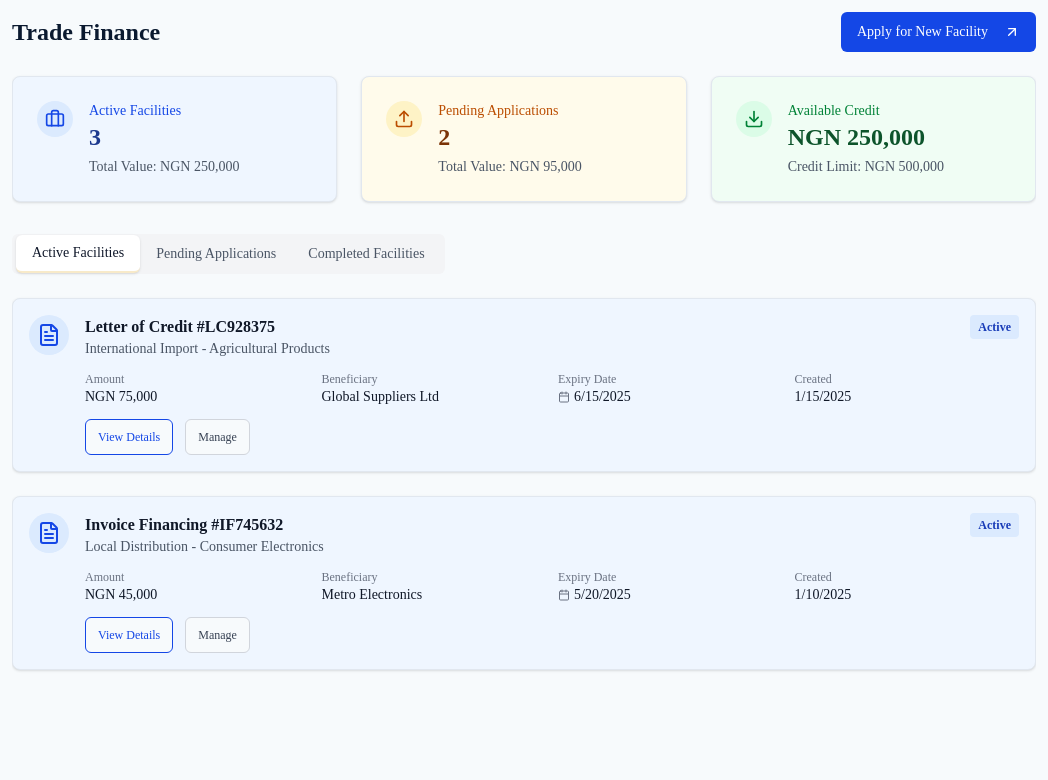
TradeFinanceTab › Application Filtering › should filter pending applications correctly
Click the tab "Pending Applications".
click(216, 254)  # box [140,236,292,272]
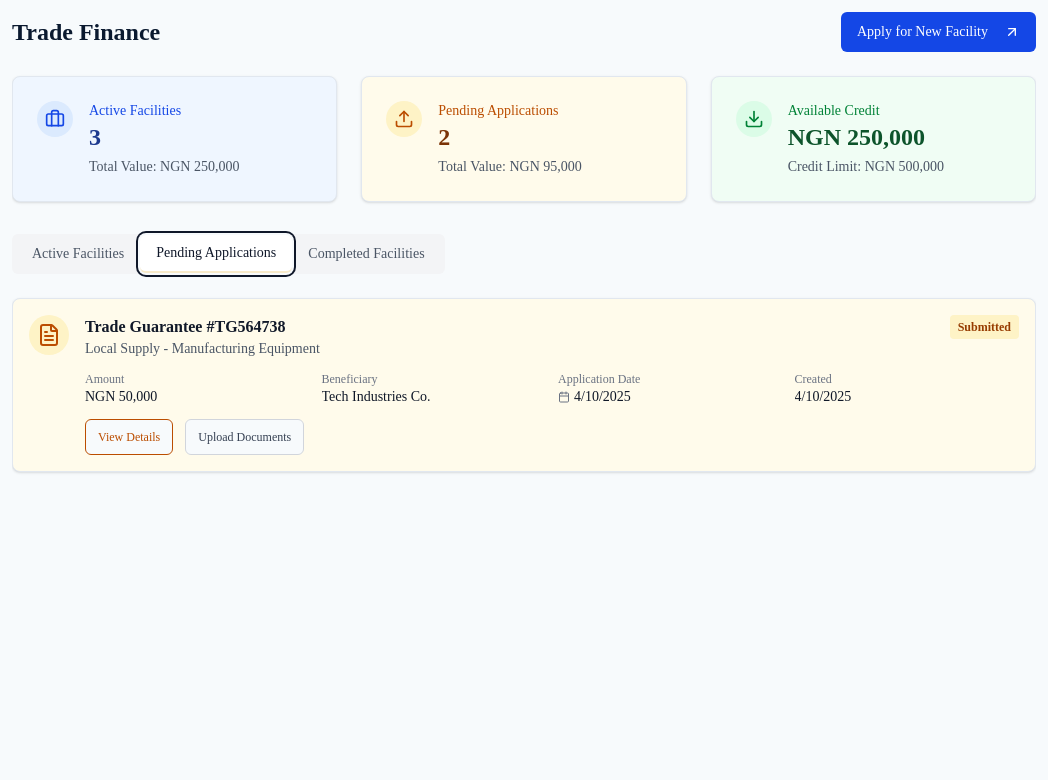
Now the text "Submitted" is shown, box [950,315,1019,339]
